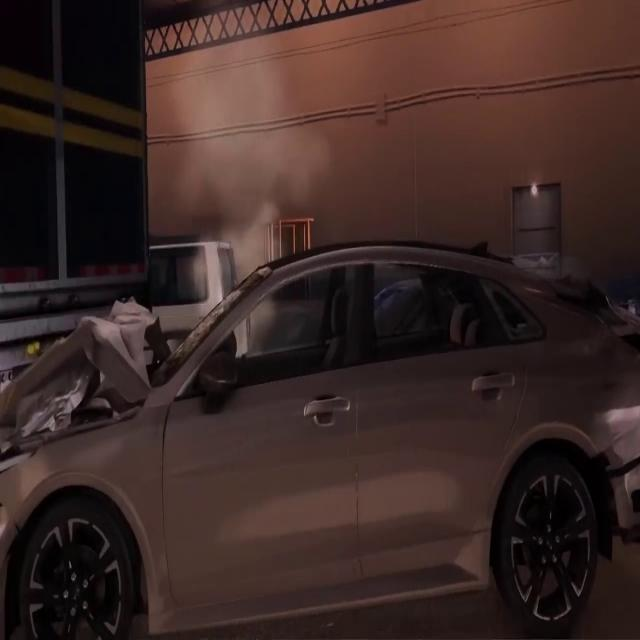accident: (4, 169, 609, 599)
